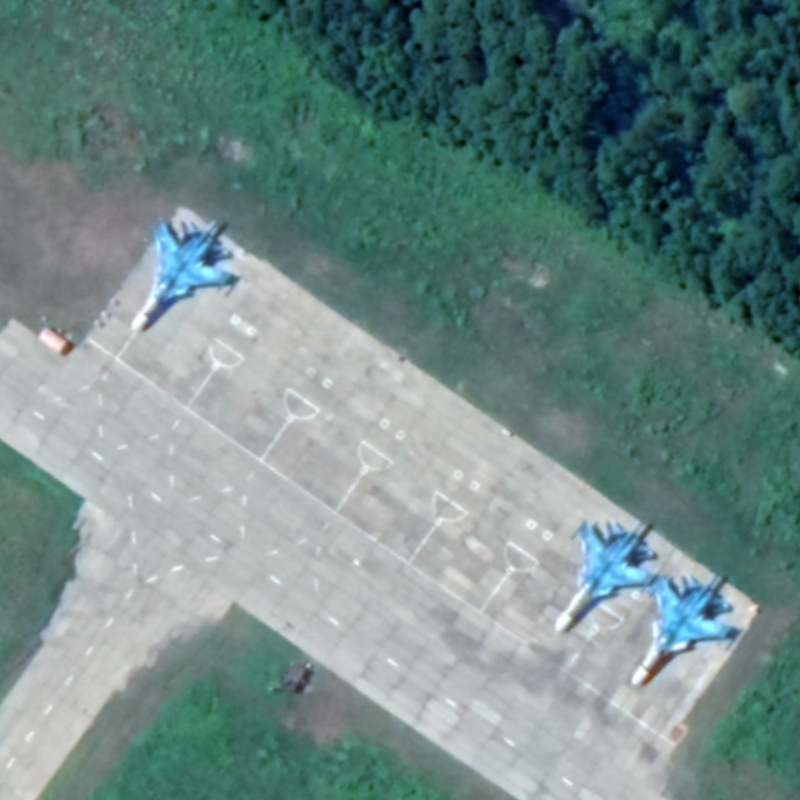A19: (553, 518, 663, 634), (629, 570, 738, 687), (130, 215, 234, 332)
